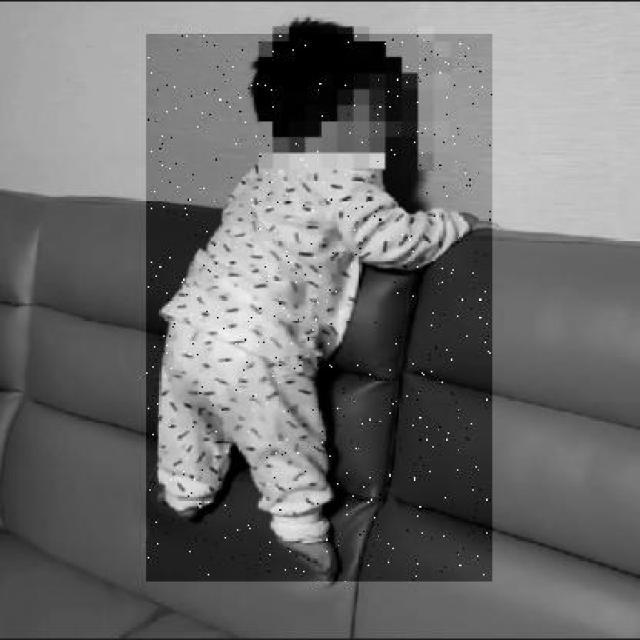child: (146, 34, 492, 582)
